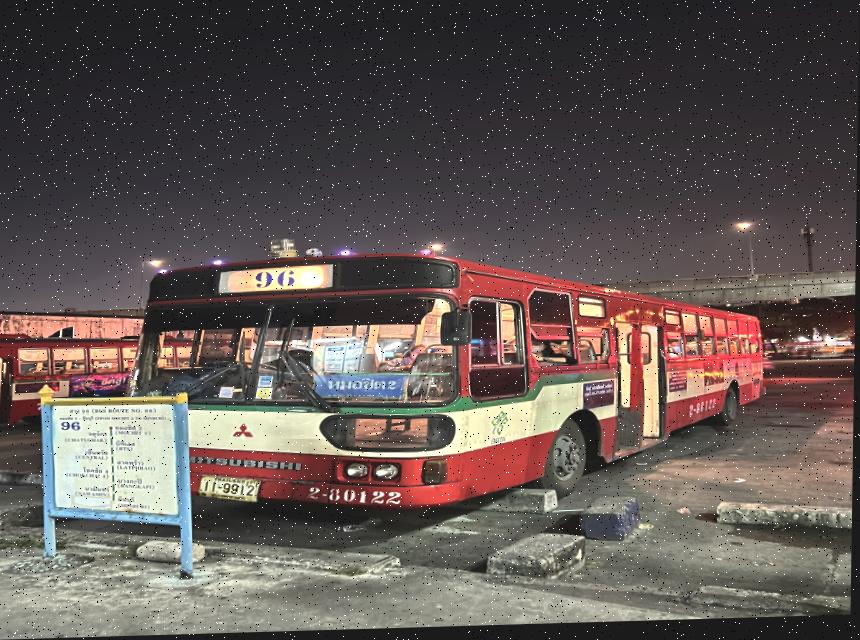BMTA-bus: (79, 244, 772, 518)
Bus Line Number: (244, 265, 312, 298)
Bus Side Number: (310, 483, 412, 510)
Destination Sign: (316, 379, 406, 404)
